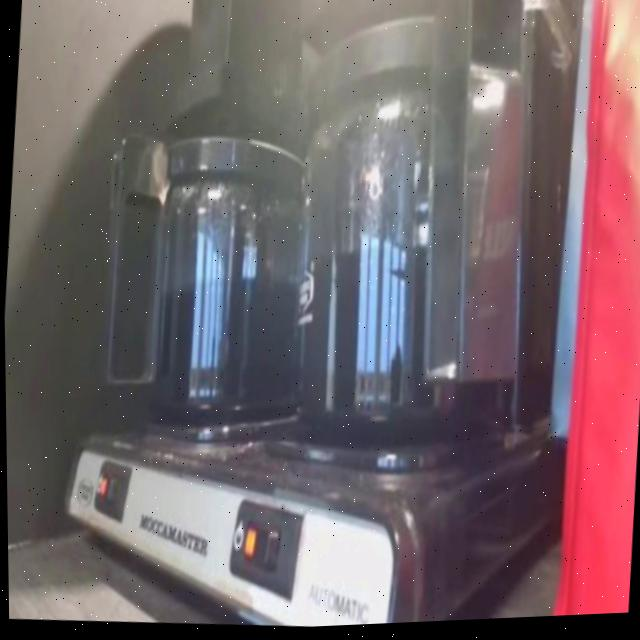coffee: (273, 9, 534, 473), (114, 101, 321, 440)
